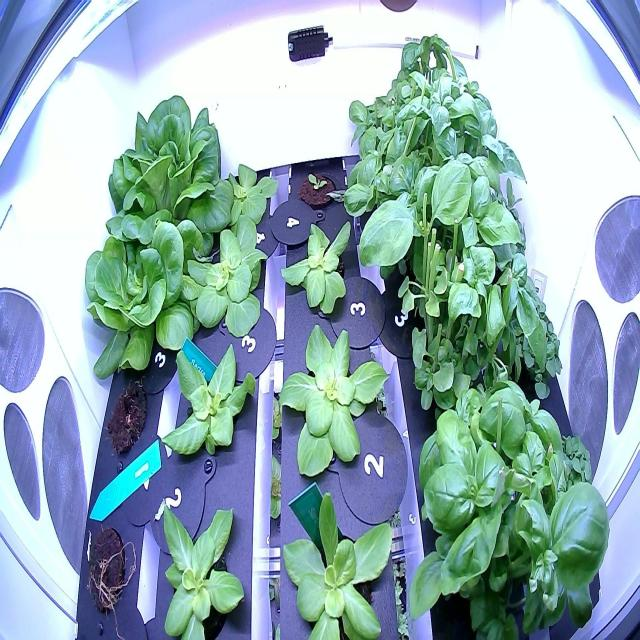Ready: (71, 204, 215, 389), (97, 78, 236, 250)
germination: (290, 158, 346, 220)
young: (274, 316, 397, 486), (276, 478, 398, 639), (144, 487, 260, 639), (153, 332, 264, 476), (182, 205, 282, 350), (274, 213, 371, 326), (204, 148, 288, 247)
